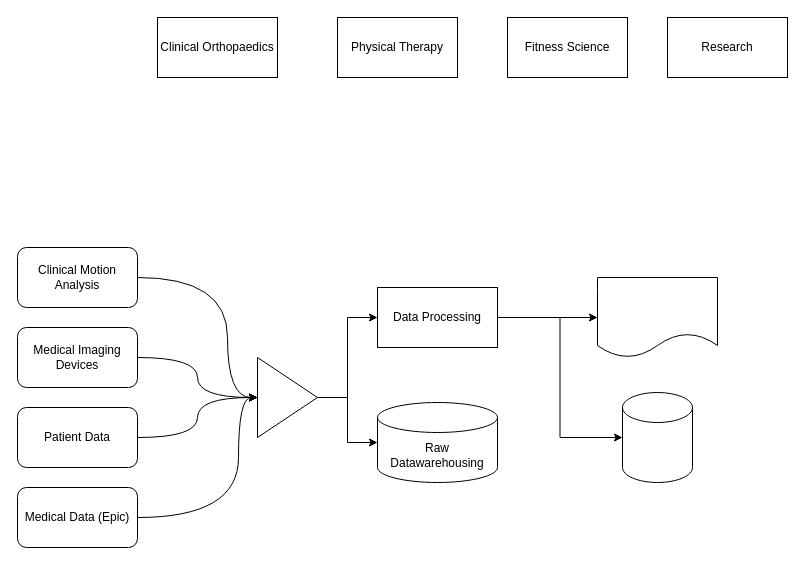
The diagram is 805 pixels wide and 565 high, and some of its shapes have lost their labels. The centre of each missing label's shape, as x and y in pixels:
Data Aggregation: the point at 287,397
Data Visualization and Reporting: the point at 657,317
Database SQL Azure: the point at 657,437
